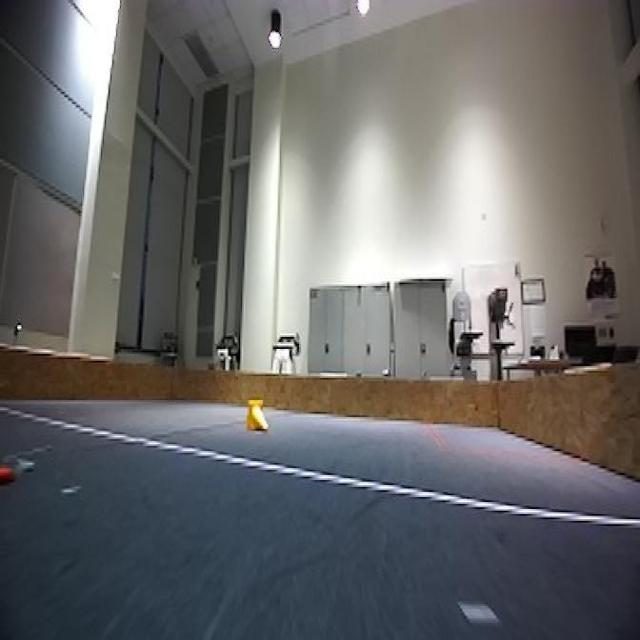frc_cone: (244, 400, 266, 434)
